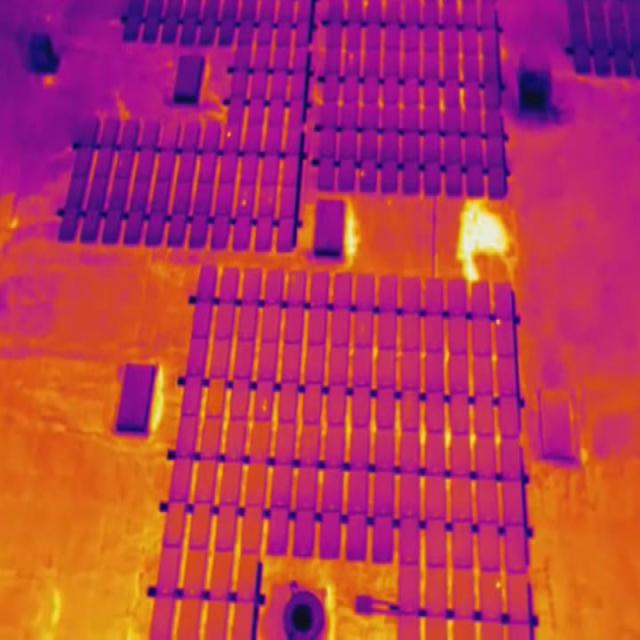Orange-Spots: (262, 398, 268, 411), (349, 52, 354, 62), (227, 130, 232, 139), (496, 581, 501, 589), (496, 318, 501, 326), (242, 199, 247, 206), (360, 170, 364, 178)
